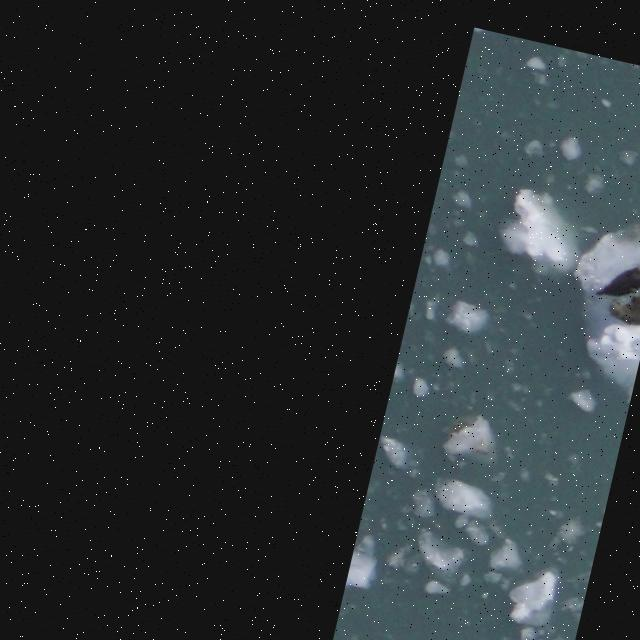seal: (599, 246, 640, 329), (591, 252, 640, 306)
